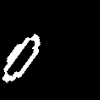chain: (3, 34, 39, 81)
